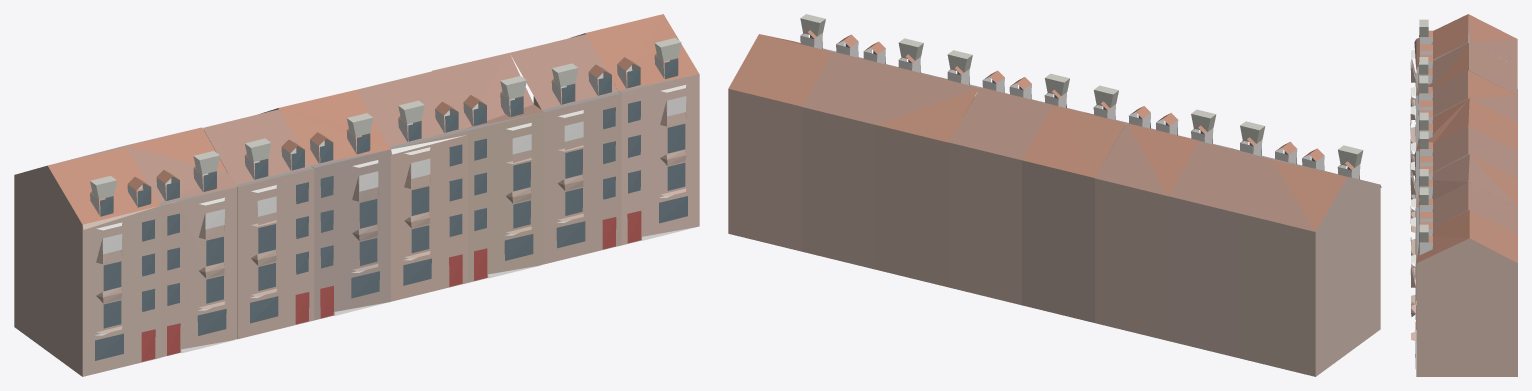
Rendered from chunk-face-hasebroek-52-88-r1.lod2.glb.
The picture shows the model from 3 angles, left to right: view 1: azimuth 30°, elevation 25°; view 2: azimuth 150°, elevation 25°; view 3: azimuth 270°, elevation 25°; orthographic projection. The views are drawn at different scales.
Parts seen in each view (by area): view 1: lod2; view 2: lod2; view 3: lod2.
Part boxes in pixels (x1,y1,x2,y2): lod2: (14, 14, 699, 376); lod2: (728, 14, 1381, 376); lod2: (1410, 14, 1517, 376).
Size of the model in its own units: 51.92 by 14.99 by 10.55.
